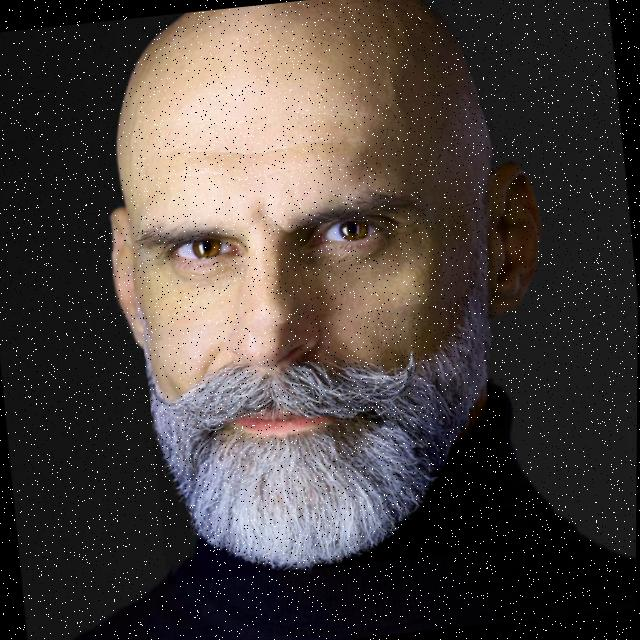beard: (149, 296, 489, 570)
